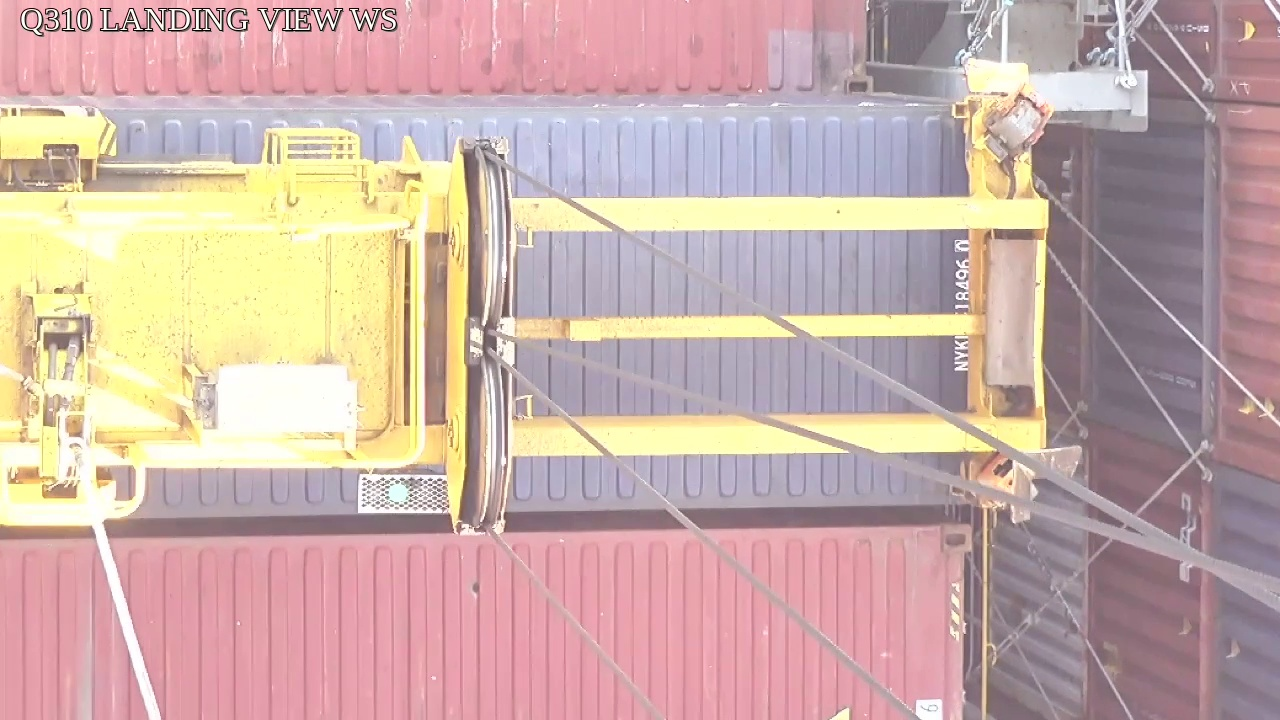right: (442, 134, 518, 536)
